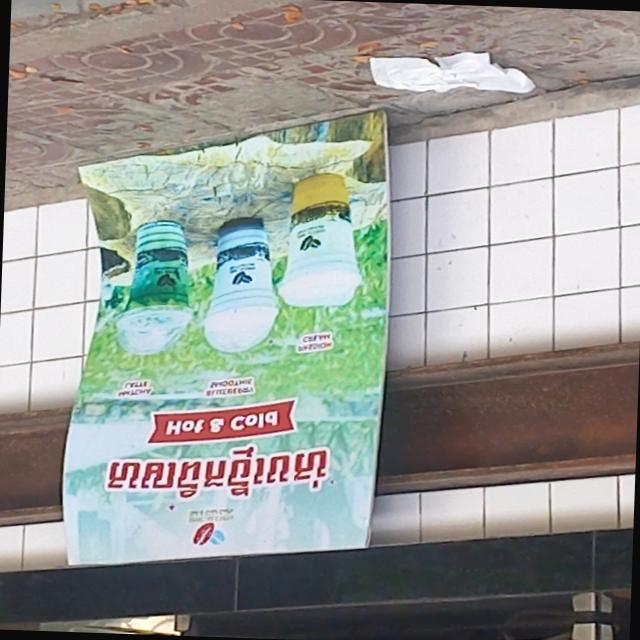Yolov11kh: (98, 436, 337, 500)
